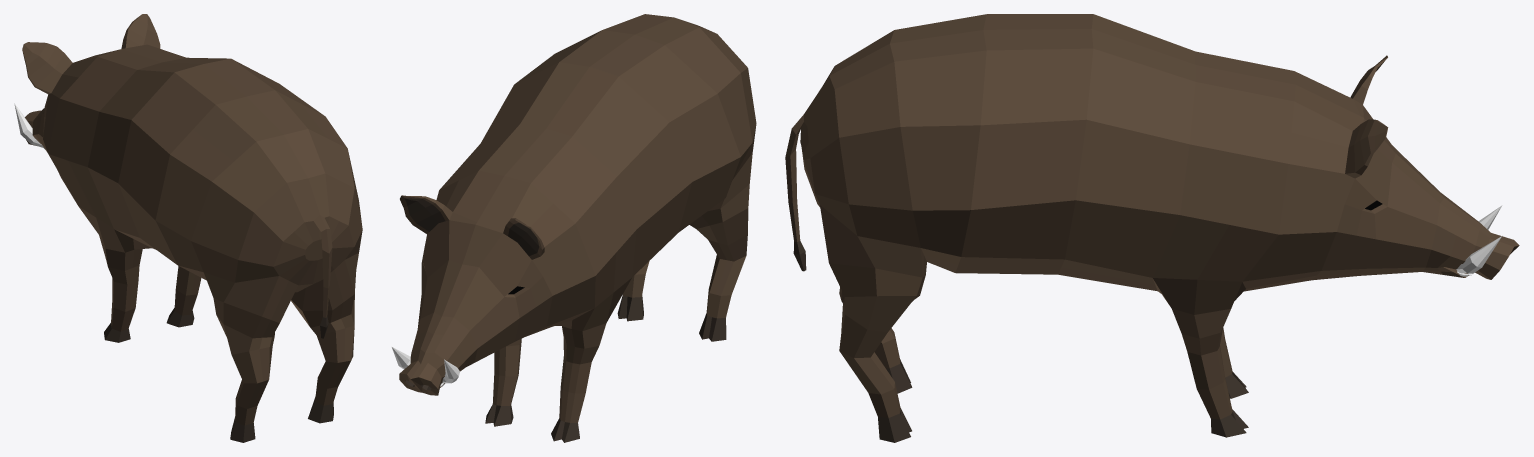
Rendered from dzik.fbx.
The picture shows the model from 3 angles, left to right: view 1: azimuth 30°, elevation 25°; view 2: azimuth 150°, elevation 25°; view 3: azimuth 270°, elevation 25°; orthographic projection. The views are drawn at different scales.
Parts seen in each view (by area): view 1: Cone; view 2: Cone; view 3: Cone.
Part boxes in pixels (x1=…): Cone: x1=14, y1=14, x2=362, y2=442; Cone: x1=392, y1=14, x2=756, y2=442; Cone: x1=785, y1=14, x2=1519, y2=442.
Size of the model in its own units: 34.07 by 51.77 by 89.93.
